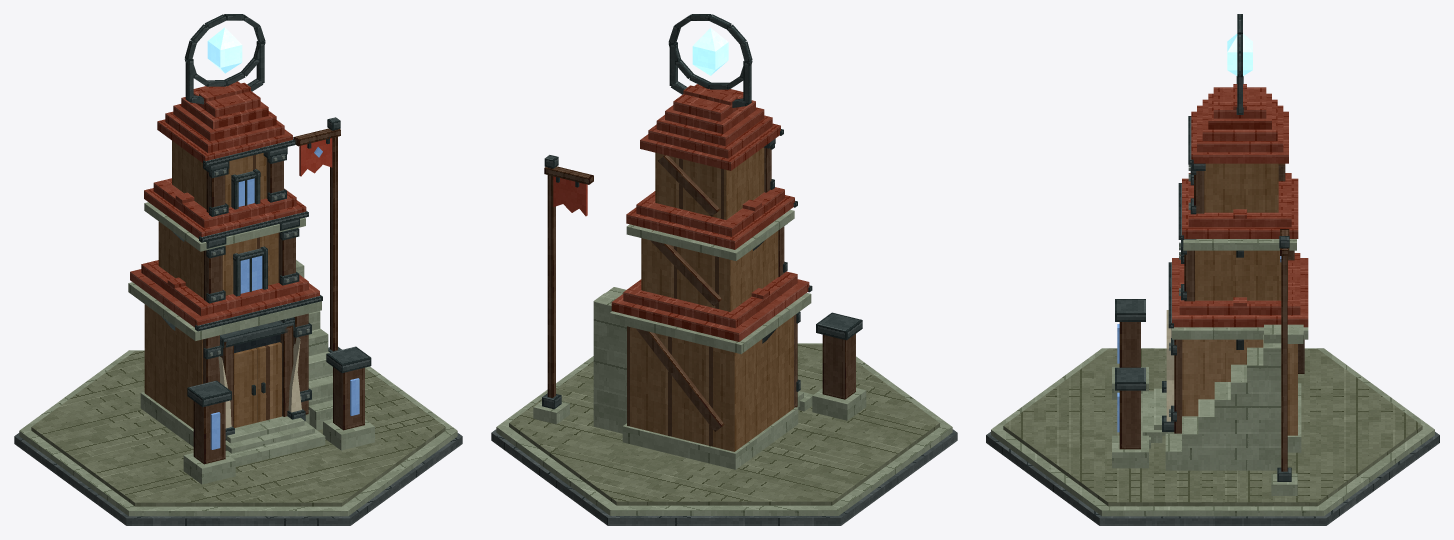
Rendered from orc_arcane_ritual_hex_v1.glb.
3 renders of one model, left to right at view 1: azimuth 30°, elevation 25°; view 2: azimuth 150°, elevation 25°; view 3: azimuth 270°, elevation 25°, orthographic. The views are drawn at different scales.
Visible parts, largest first — view 1: Orc_Arcane_Ritual_Hex_V1_Foundation, Orc_Arcane_Ritual_Hex_V1_Roofs, Orc_Arcane_Ritual_Hex_V1_Hall, Orc_Arcane_Ritual_Hex_V1_Details, Orc_Arcane_Ritual_Hex_V1_Training, Orc_Arcane_Ritual_Hex_V1_Courtyard, Orc_Arcane_Ritual_Hex_V1_Focus, Orc_Arcane_Ritual_Hex_V1_Faction; view 2: Orc_Arcane_Ritual_Hex_V1_Foundation, Orc_Arcane_Ritual_Hex_V1_Hall, Orc_Arcane_Ritual_Hex_V1_Roofs, Orc_Arcane_Ritual_Hex_V1_Details, Orc_Arcane_Ritual_Hex_V1_Courtyard, Orc_Arcane_Ritual_Hex_V1_Faction, Orc_Arcane_Ritual_Hex_V1_Training, Orc_Arcane_Ritual_Hex_V1_Focus; view 3: Orc_Arcane_Ritual_Hex_V1_Foundation, Orc_Arcane_Ritual_Hex_V1_Roofs, Orc_Arcane_Ritual_Hex_V1_Hall, Orc_Arcane_Ritual_Hex_V1_Courtyard, Orc_Arcane_Ritual_Hex_V1_Training, Orc_Arcane_Ritual_Hex_V1_Details, Orc_Arcane_Ritual_Hex_V1_Faction, Orc_Arcane_Ritual_Hex_V1_Focus.
Boxes of the visible parts, x1,y1,x2,y2 form: Orc_Arcane_Ritual_Hex_V1_Foundation: [14, 350, 462, 525]; Orc_Arcane_Ritual_Hex_V1_Roofs: [128, 81, 322, 340]; Orc_Arcane_Ritual_Hex_V1_Hall: [140, 141, 309, 446]; Orc_Arcane_Ritual_Hex_V1_Details: [161, 147, 311, 414]; Orc_Arcane_Ritual_Hex_V1_Training: [183, 346, 374, 484]; Orc_Arcane_Ritual_Hex_V1_Courtyard: [225, 260, 332, 466]; Orc_Arcane_Ritual_Hex_V1_Focus: [184, 14, 265, 104]; Orc_Arcane_Ritual_Hex_V1_Faction: [293, 117, 341, 352]; Orc_Arcane_Ritual_Hex_V1_Foundation: [491, 343, 957, 525]; Orc_Arcane_Ritual_Hex_V1_Hall: [622, 147, 798, 469]; Orc_Arcane_Ritual_Hex_V1_Roofs: [609, 84, 812, 354]; Orc_Arcane_Ritual_Hex_V1_Details: [636, 138, 800, 431]; Orc_Arcane_Ritual_Hex_V1_Courtyard: [593, 287, 813, 433]; Orc_Arcane_Ritual_Hex_V1_Faction: [533, 155, 593, 424]; Orc_Arcane_Ritual_Hex_V1_Training: [812, 312, 866, 420]; Orc_Arcane_Ritual_Hex_V1_Focus: [668, 14, 752, 107]; Orc_Arcane_Ritual_Hex_V1_Foundation: [986, 348, 1439, 525]; Orc_Arcane_Ritual_Hex_V1_Roofs: [1168, 84, 1308, 339]; Orc_Arcane_Ritual_Hex_V1_Hall: [1162, 163, 1301, 452]; Orc_Arcane_Ritual_Hex_V1_Courtyard: [1141, 324, 1303, 470]; Orc_Arcane_Ritual_Hex_V1_Training: [1112, 299, 1148, 468]; Orc_Arcane_Ritual_Hex_V1_Details: [1169, 163, 1304, 433]; Orc_Arcane_Ritual_Hex_V1_Faction: [1271, 229, 1297, 495]; Orc_Arcane_Ritual_Hex_V1_Focus: [1227, 14, 1252, 114].
Bounding box in the file's own units: 1.59 × 1.9 × 1.84.
1 material, 1 textured.
